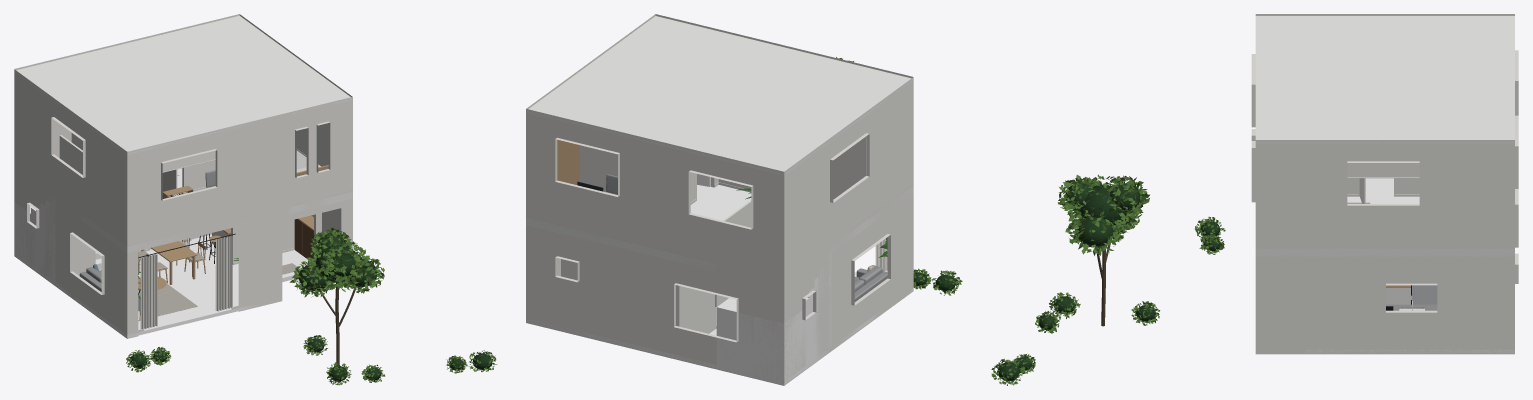
File: interior.glb
The picture shows the model from 3 angles, left to right: view 1: azimuth 30°, elevation 25°; view 2: azimuth 150°, elevation 25°; view 3: azimuth 270°, elevation 25°; orthographic projection. The views are drawn at different scales.
Visible parts, largest first — view 1: 09_wall, 10_furniture, 09_floor, 11_garden; view 2: 09_wall, 09_floor, 10_furniture, 11_garden; view 3: 09_wall, 11_garden, 10_furniture, 09_floor.
Boxes of the visible parts, x1,y1,x2,y2 form: 09_wall: [14, 14, 352, 338]; 10_furniture: [65, 149, 352, 334]; 09_floor: [14, 168, 310, 338]; 11_garden: [126, 227, 497, 385]; 09_wall: [526, 14, 913, 385]; 09_floor: [526, 177, 913, 384]; 10_furniture: [526, 139, 913, 328]; 11_garden: [836, 57, 962, 295]; 09_wall: [1251, 14, 1518, 354]; 11_garden: [991, 174, 1225, 385]; 10_furniture: [1267, 163, 1437, 310]; 09_floor: [1305, 178, 1514, 353].
Bounding box in the file's own units: 8.65 × 5.97 × 12.31.
